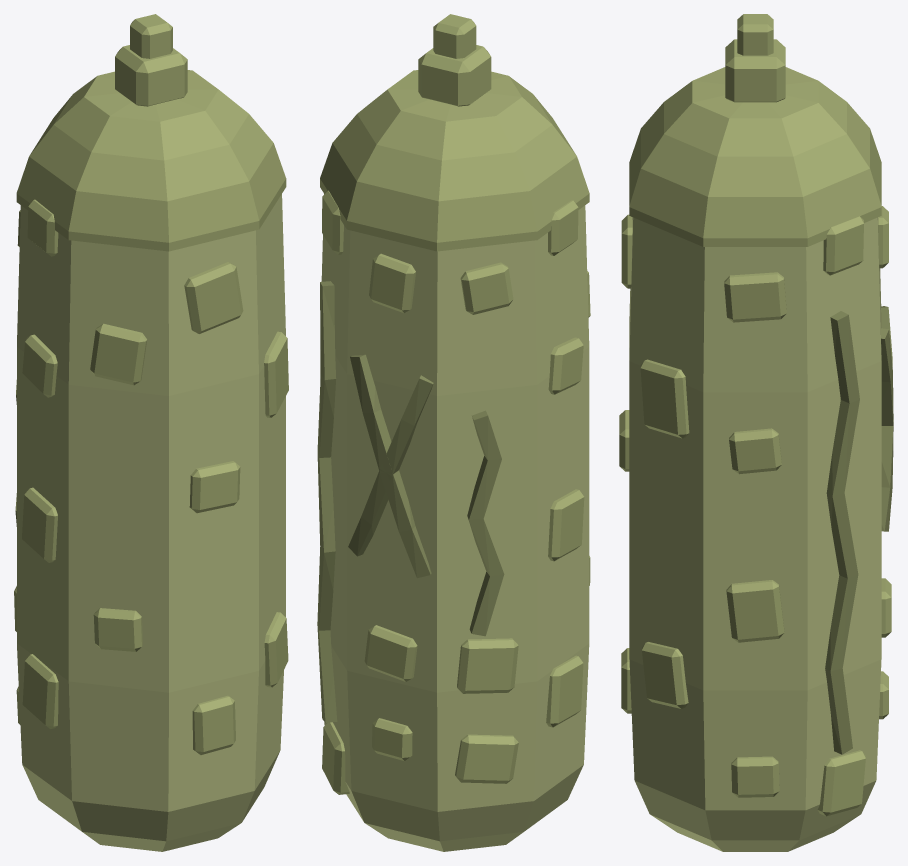
The model's file is DesertSunBakedCucumber.fbx.
3 views of the same model, side by side, from view 1: azimuth 30°, elevation 25°; view 2: azimuth 150°, elevation 25°; view 3: azimuth 270°, elevation 25° (orthographic).
Visible parts, largest first — view 1: DesertSunBakedCucumber.Body, DesertSunBakedCucumber.Shoulder, DesertSunBakedCucumber.Studs; view 2: DesertSunBakedCucumber.Body, DesertSunBakedCucumber.Shoulder, DesertSunBakedCucumber.Studs, DesertSunBakedCucumber.Cracks; view 3: DesertSunBakedCucumber.Body, DesertSunBakedCucumber.Shoulder, DesertSunBakedCucumber.Studs, DesertSunBakedCucumber.Cracks.
Part boxes in pixels (x1,y1,x2,y2): DesertSunBakedCucumber.Body: (17,194,285,851); DesertSunBakedCucumber.Shoulder: (16,14,286,251); DesertSunBakedCucumber.Studs: (14,199,288,754); DesertSunBakedCucumber.Body: (320,194,589,851); DesertSunBakedCucumber.Shoulder: (320,14,589,251); DesertSunBakedCucumber.Studs: (322,190,590,794); DesertSunBakedCucumber.Cracks: (317,281,504,722); DesertSunBakedCucumber.Body: (629,217,881,851); DesertSunBakedCucumber.Shoulder: (629,14,881,246); DesertSunBakedCucumber.Studs: (619,206,891,816); DesertSunBakedCucumber.Cracks: (825,306,893,754).
Size of the model in its own units: 1.36 by 4.4 by 1.37.
